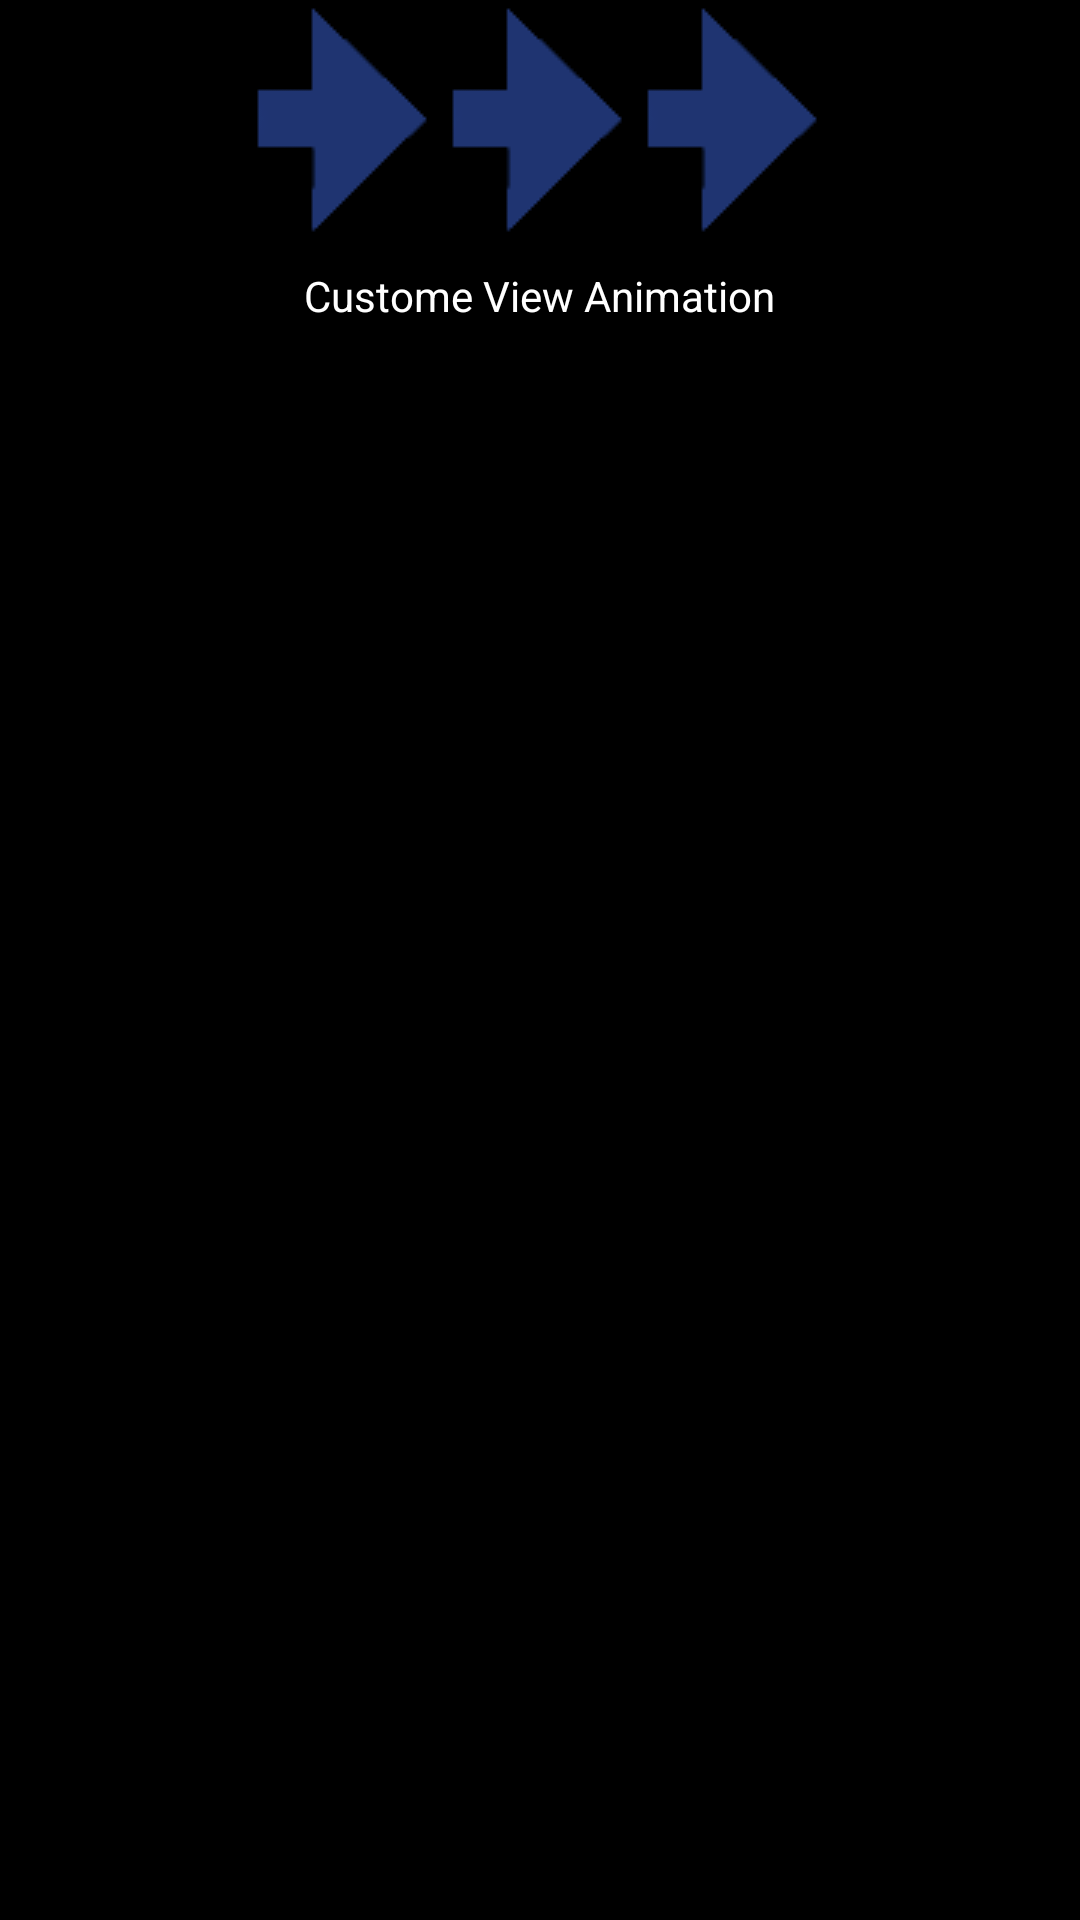

Named icons in this screenshot (1080w x 1920h) and their bounding boxes, (x1, y1, x2, y2):
data arrow empty: (257, 8, 427, 232), (452, 8, 622, 232), (647, 8, 817, 232)
